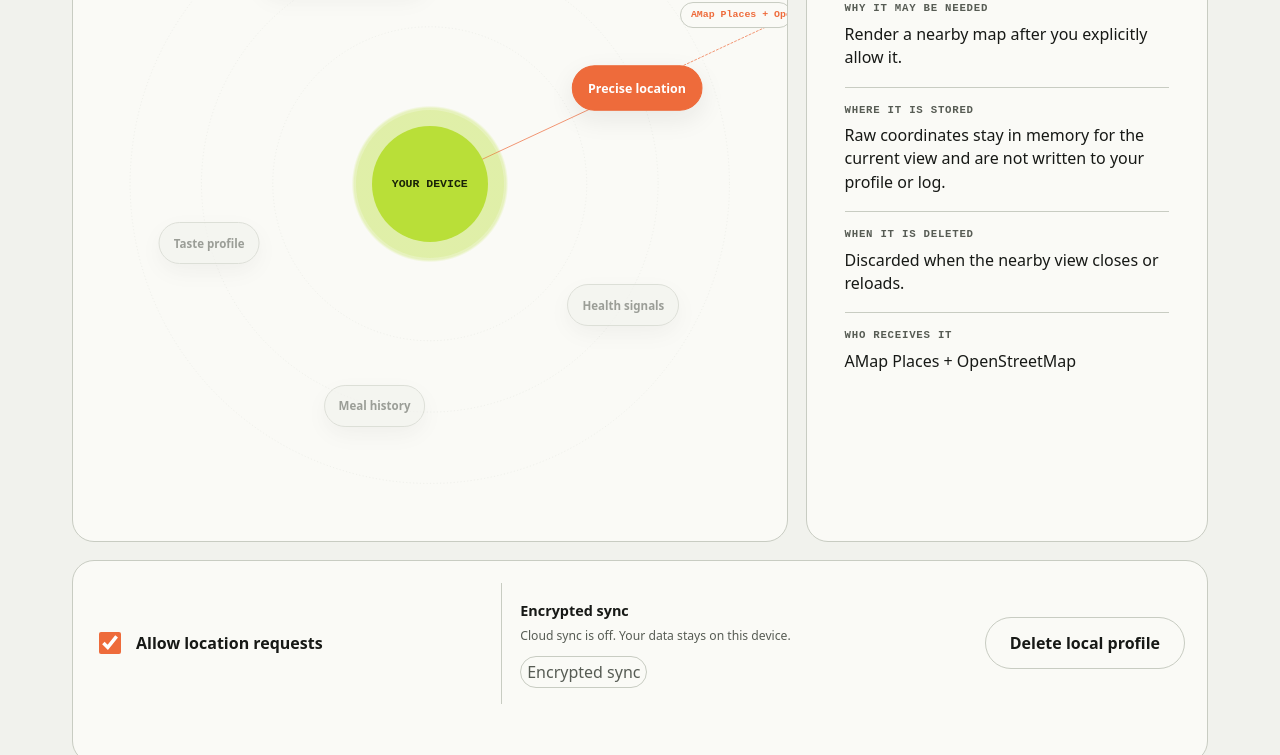
Scenario: connects only the selected category and reserves the external receiver for location
(page scrolled)
Click the button "Health signals": click(623, 305) [567, 284, 679, 326]
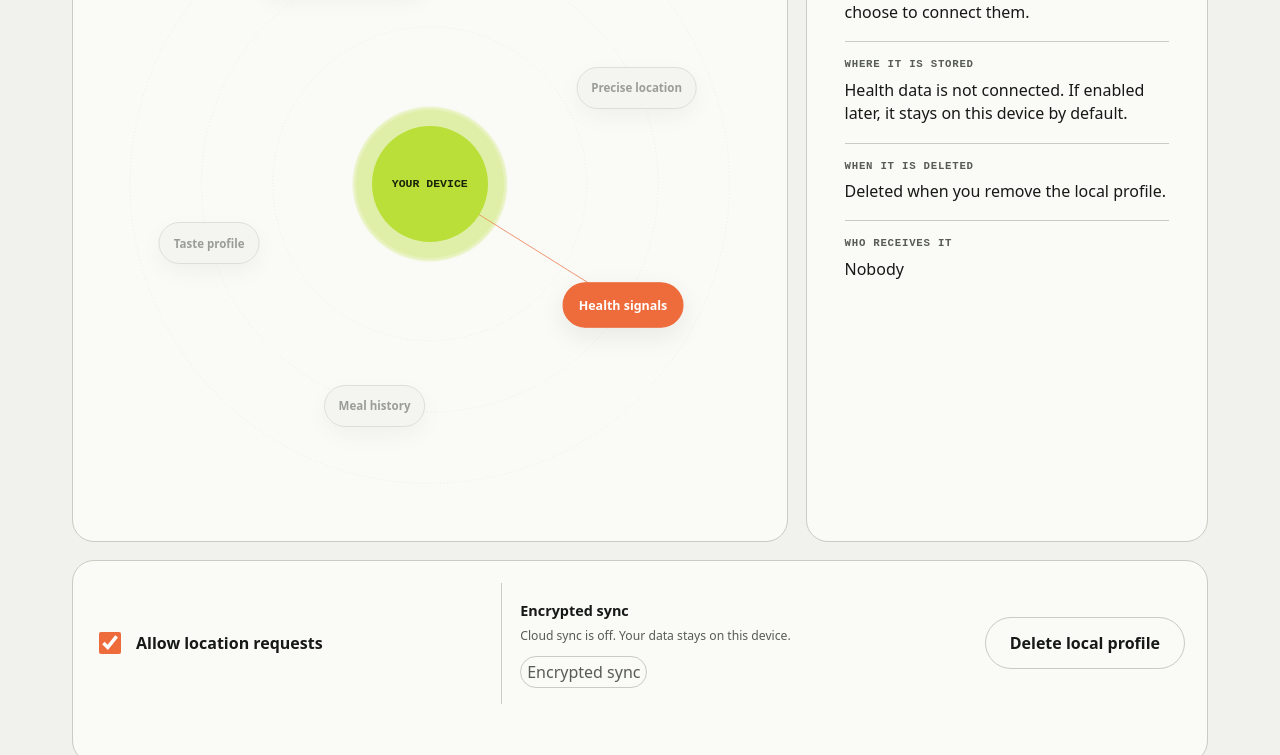
expect the text "AMap Places + OpenStreetMap" is gone: met
Click the button "Precise location": click(637, 88) [576, 67, 697, 109]
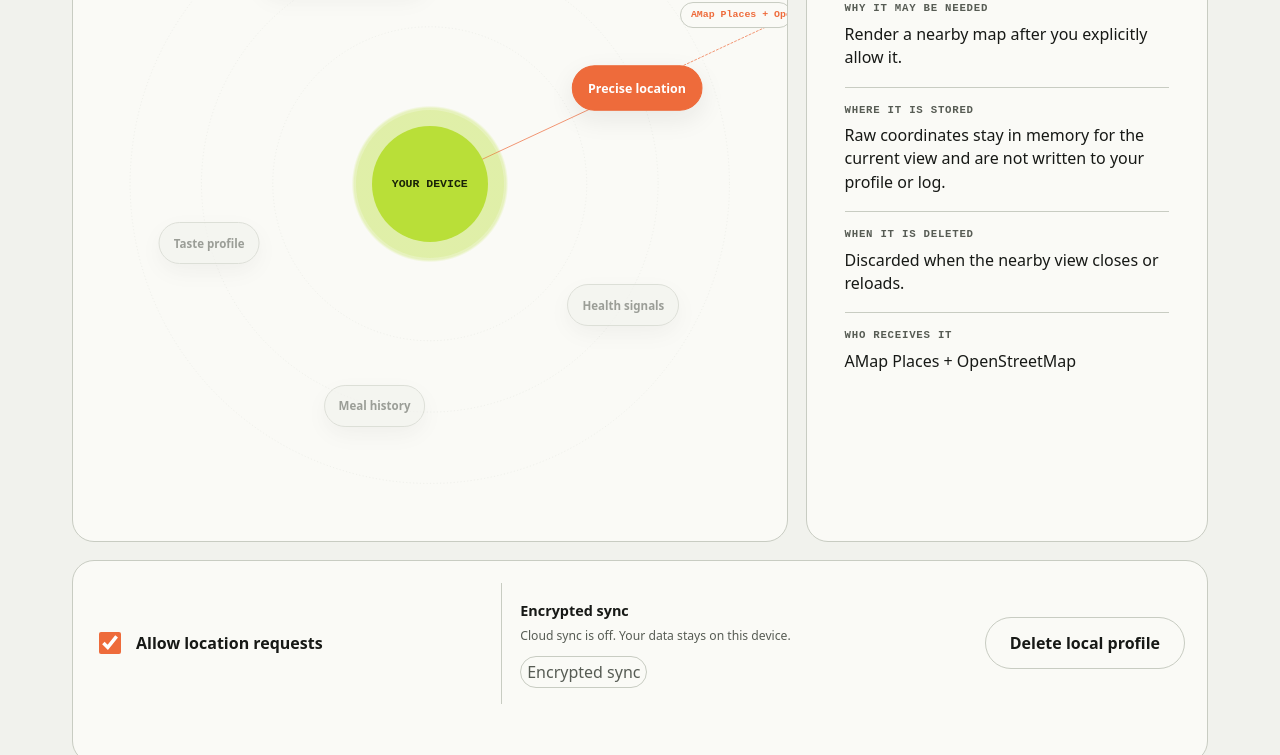
expect the element with test id "privacy-outbound-connector" is shown: met, box [637, 15, 788, 88]
expect the text with test id "privacy-receiver" reads "AMap Places + OpenStreetMap": met, box [691, 9, 788, 20]
